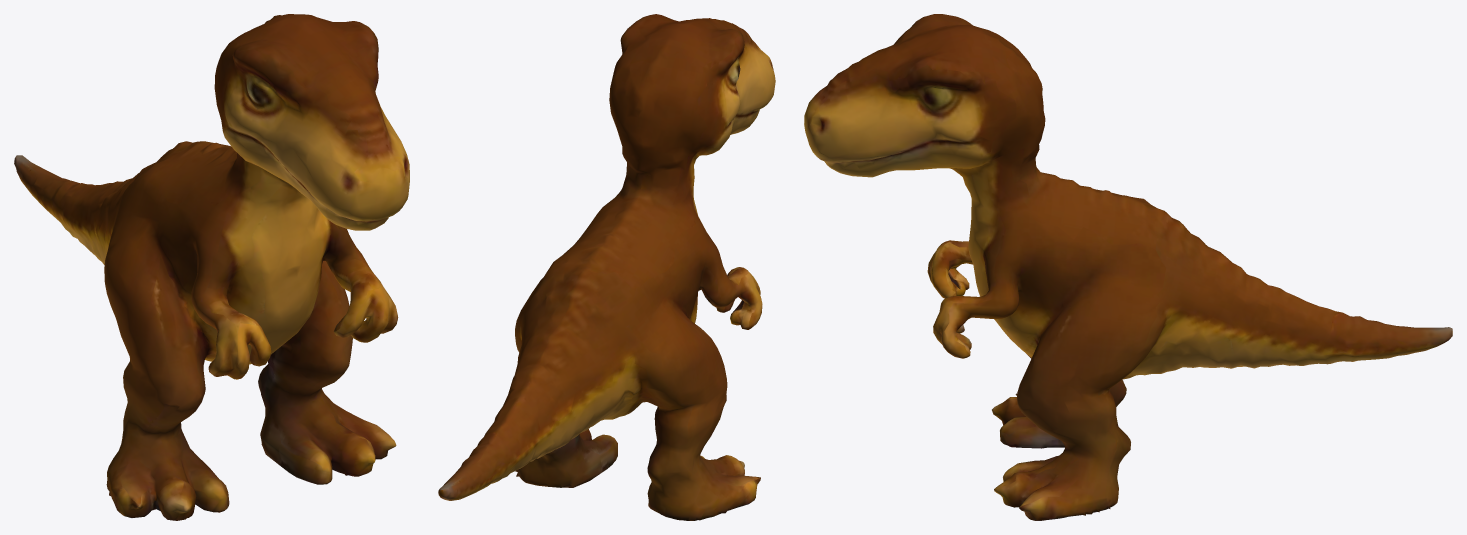
Rendered from mob_allosaurus.glb.
3 views of the same model, side by side, from view 1: azimuth 30°, elevation 25°; view 2: azimuth 150°, elevation 25°; view 3: azimuth 270°, elevation 25° (orthographic). The views are drawn at different scales.
Visible parts, largest first — view 1: geometry_0; view 2: geometry_0; view 3: geometry_0.
Boxes of the visible parts, left/top/right/bottom form: geometry_0: left=14, top=14, right=409, bottom=520; geometry_0: left=438, top=14, right=775, bottom=520; geometry_0: left=804, top=14, right=1452, bottom=520.
Bounding box in the file's own units: 0.7834 × 1.4 × 1.88.
1 material, 1 textured.
